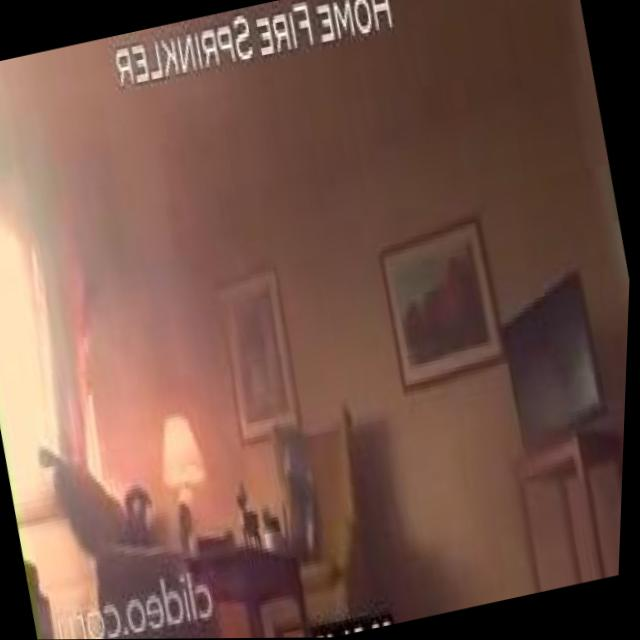fire: (47, 267, 151, 513)
